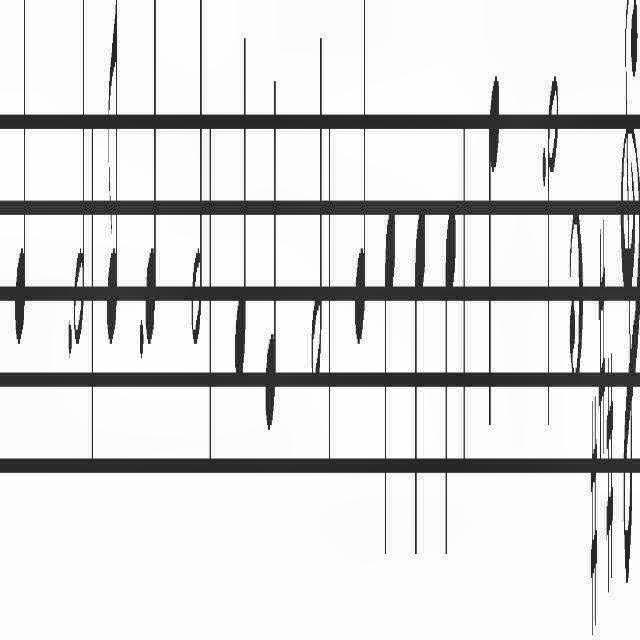Bass-clef: (616, 0, 640, 608)
Diez: (606, 340, 614, 600), (598, 210, 606, 456), (590, 398, 598, 640)
Eighth-note: (103, 0, 119, 358)
Half-note: (545, 61, 559, 440), (73, 1, 87, 363), (189, 0, 203, 358), (310, 19, 322, 391)
Quarter-note: (486, 54, 502, 446), (412, 197, 428, 579), (232, 16, 248, 398), (382, 196, 398, 572), (263, 46, 277, 442), (443, 193, 457, 579), (144, 0, 158, 368), (15, 1, 28, 363), (354, 1, 366, 363)
